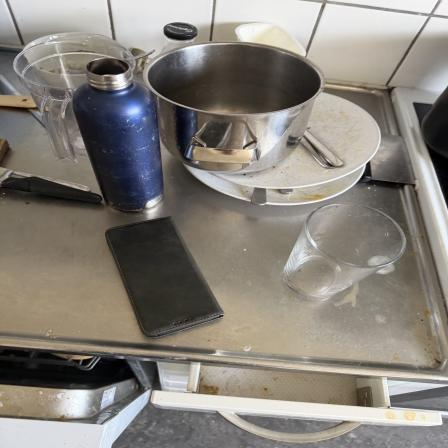blue_bottle: (71, 56, 172, 213)
phone: (101, 216, 234, 341)
